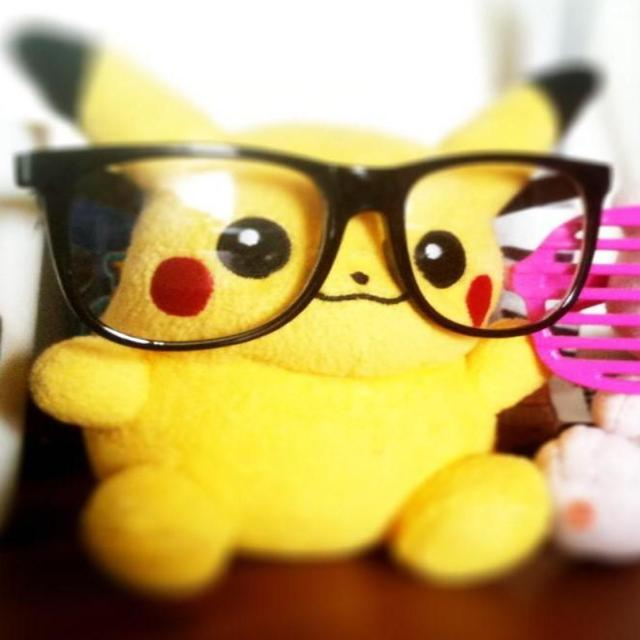pikachu: (18, 10, 605, 592)
